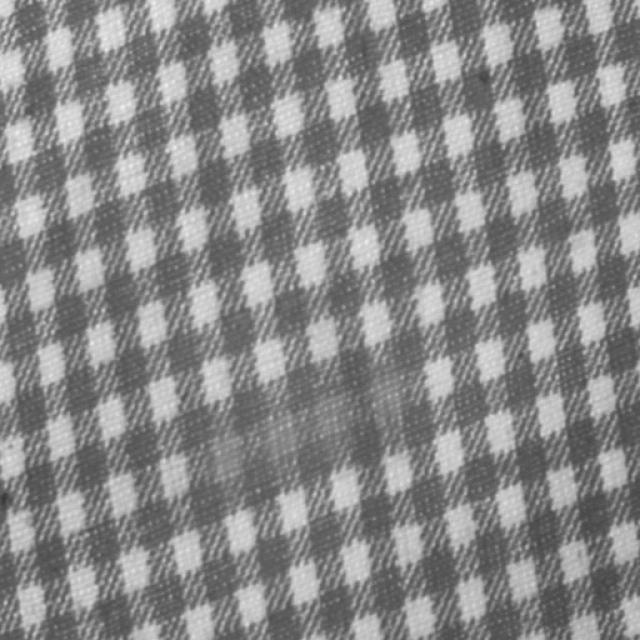Stain-Defect: (210, 369, 415, 484)
